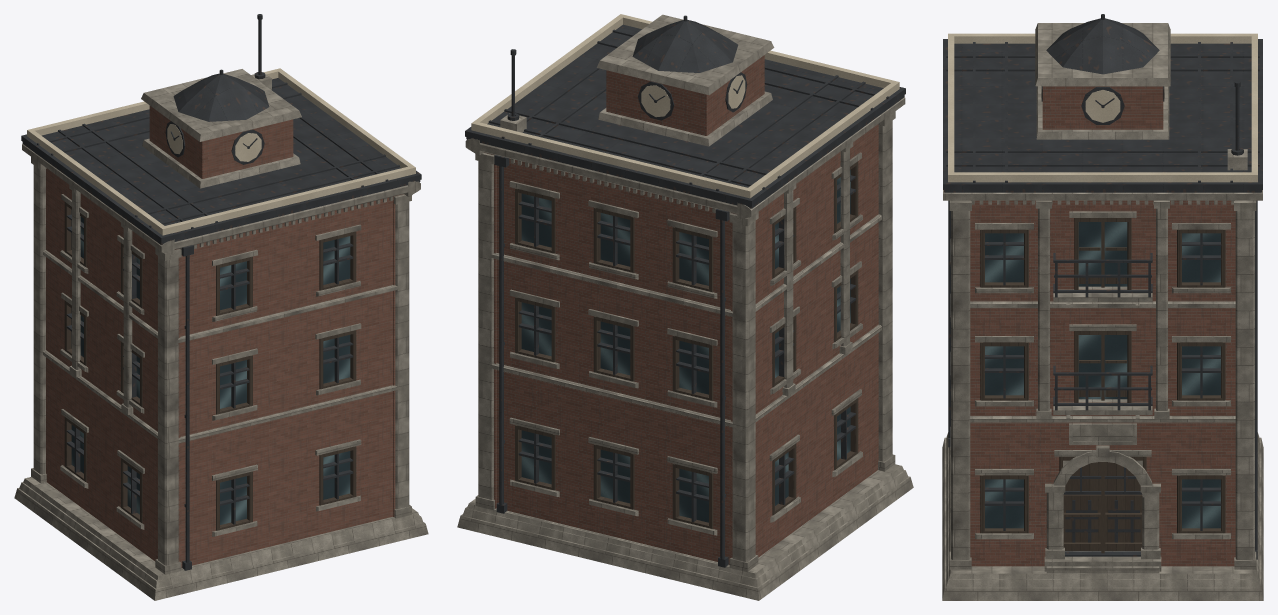
File: SN_HT_Harbor_Office.glb
3 renders of one model, left to right at view 1: azimuth 30°, elevation 25°; view 2: azimuth 150°, elevation 25°; view 3: azimuth 270°, elevation 25°, orthographic. The views are drawn at different scales.
Parts seen in each view (by area): view 1: SN_HT_Harbor_Office_LOD0; view 2: SN_HT_Harbor_Office_LOD0; view 3: SN_HT_Harbor_Office_LOD0.
Part boxes in pixels (x1,y1,x2,y2): SN_HT_Harbor_Office_LOD0: [14, 14, 428, 600]; SN_HT_Harbor_Office_LOD0: [457, 14, 913, 600]; SN_HT_Harbor_Office_LOD0: [942, 14, 1263, 600].
Bounding box in the file's own units: 9 × 14 × 8.
6 materials, 6 textured.
